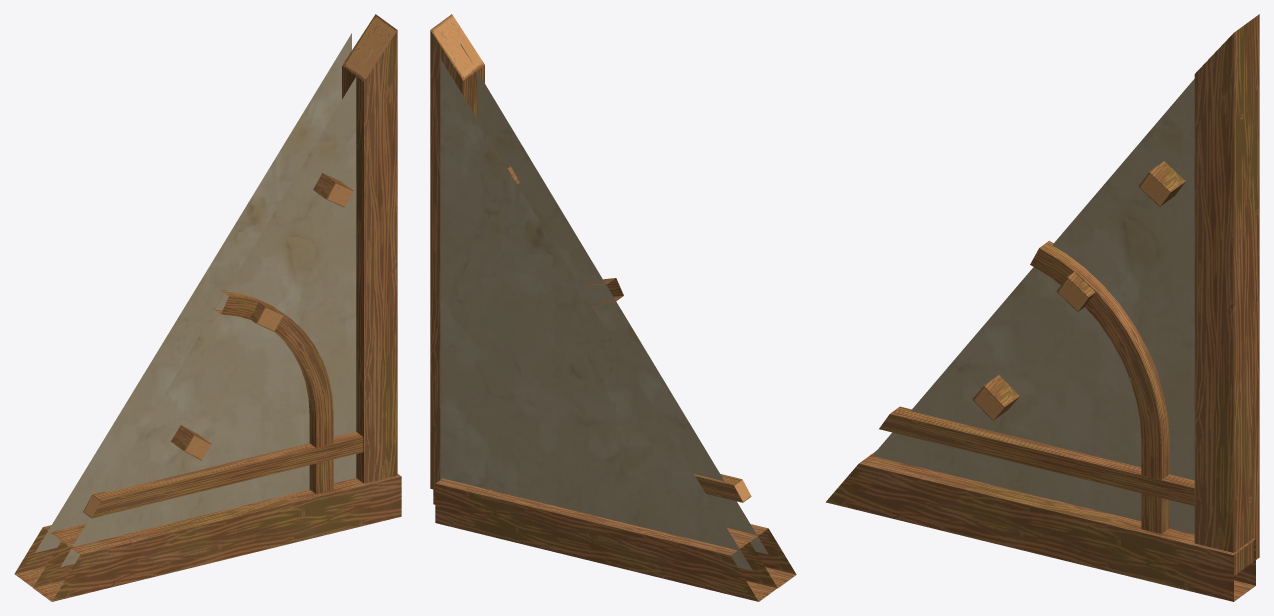
File: Roof_Front_Brick4_Half_L.glb
3 views of the same model, side by side, from view 1: azimuth 30°, elevation 25°; view 2: azimuth 150°, elevation 25°; view 3: azimuth 330°, elevation 25° (orthographic). The views are drawn at different scales.
Visible parts, largest first — view 1: Roof_Front_Brick4_Half_L; view 2: Roof_Front_Brick4_Half_L; view 3: Roof_Front_Brick4_Half_L.
Boxes of the visible parts, x1,y1,x2,y2 form: Roof_Front_Brick4_Half_L: [14, 14, 401, 601]; Roof_Front_Brick4_Half_L: [430, 14, 796, 601]; Roof_Front_Brick4_Half_L: [826, 14, 1259, 601].
Bounding box in the file's own units: 2.41 × 3.2 × 0.4894.
2 materials, 2 textured.
